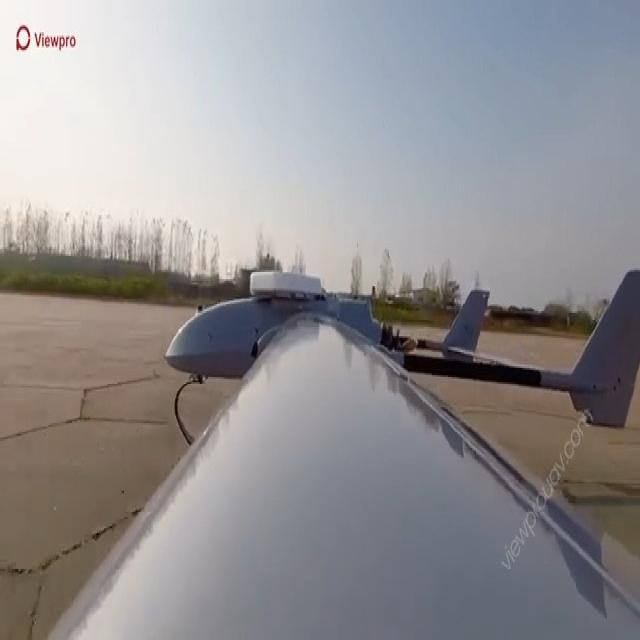drones: (152, 263, 640, 640)
